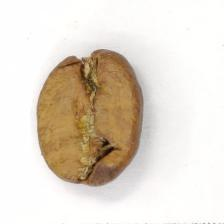NG: (64, 49, 118, 184)
